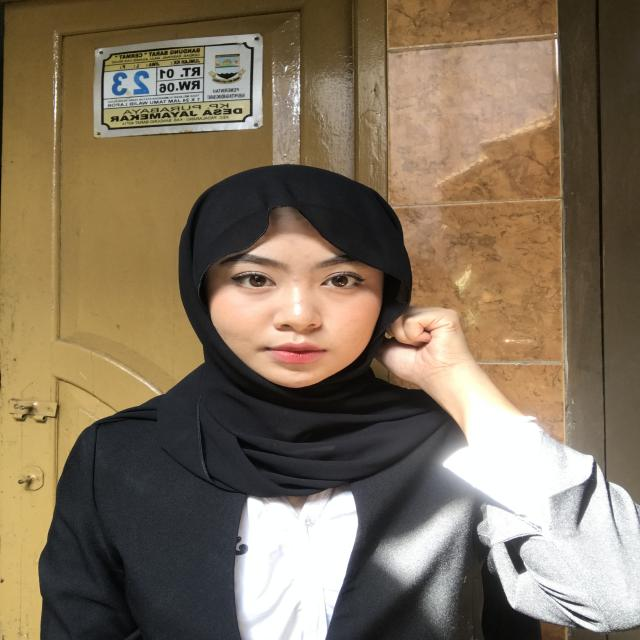ibu: (372, 296, 510, 431)
